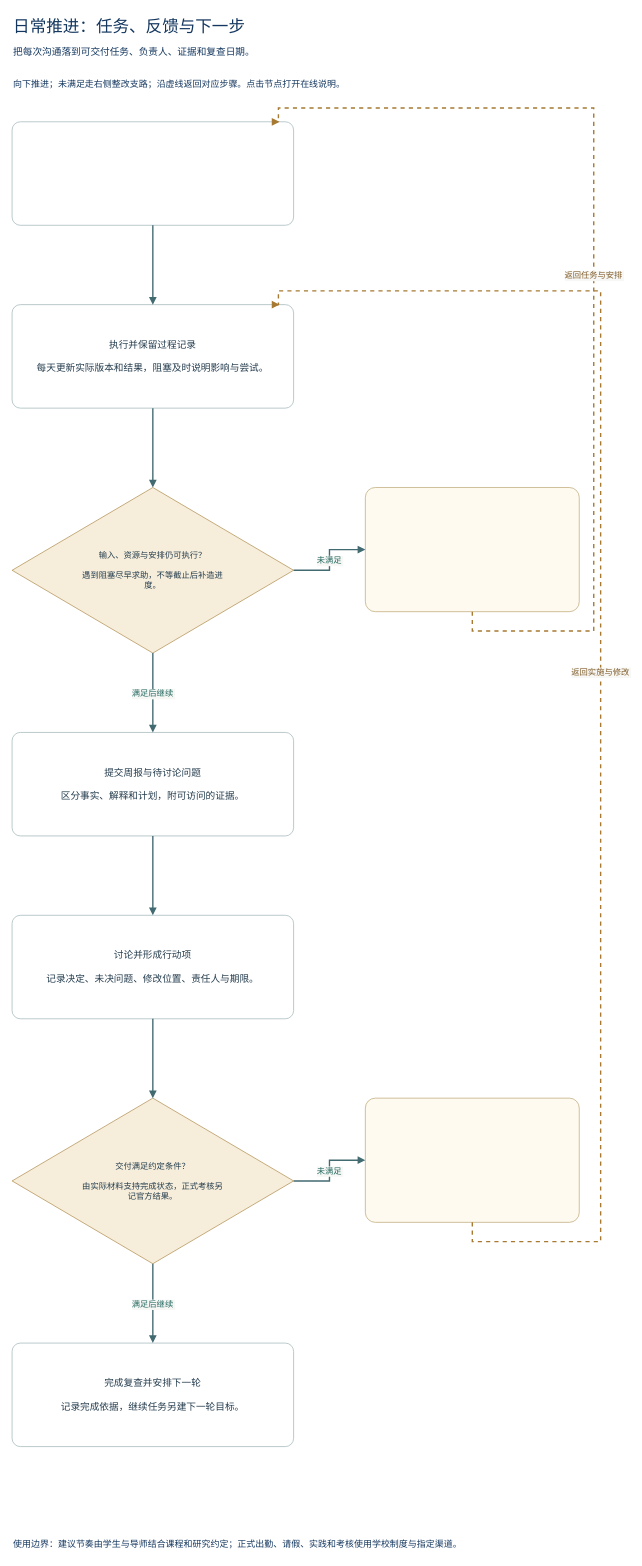
Image size: 642x1566. Some labels were removed from this diagram. The shapes that lost their labels are listed below. From the top down, each one's centre as x and y in pixels, then its label:
At [152,173]: "约定目标与完成条件 写清任务、负责人、输入、交付物、检查日期及需要的帮 助。".
At [472,549]: "修订与复核 说明原因与备选方案，协商缩范围、改期 或必要的正式变更。".
At [472,1159]: "修订与复核 逐项落实反馈；有争议的结论保留待确认 并约定复查。".
